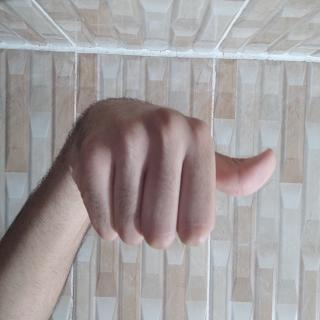ALIF: (68, 54, 194, 320)
